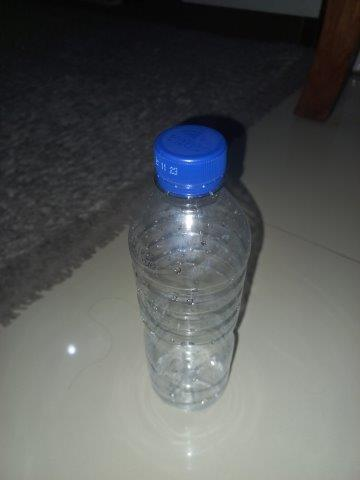botolplastik: (130, 126, 252, 404)
